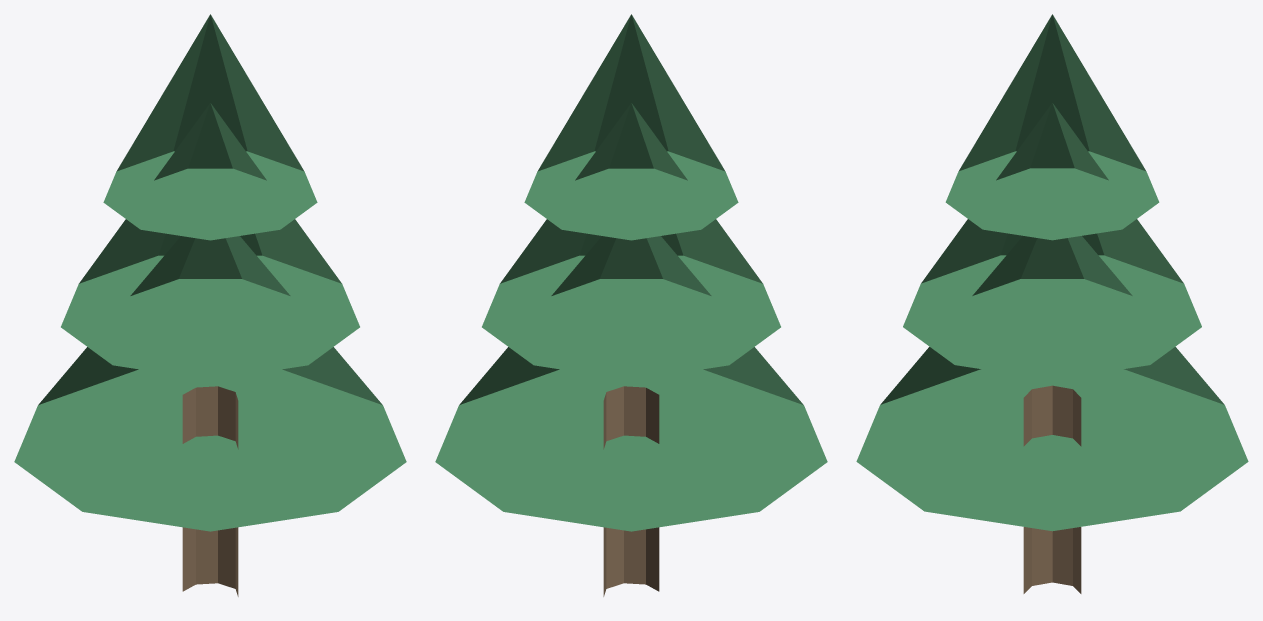
Rendered from pine.glb.
3 renders of one model, left to right at view 1: azimuth 30°, elevation 25°; view 2: azimuth 150°, elevation 25°; view 3: azimuth 270°, elevation 25°, orthographic.
Visible parts, largest first — view 1: pine; view 2: pine; view 3: pine.
Boxes of the visible parts, x1,y1,x2,y2 form: pine: [14, 14, 406, 596]; pine: [435, 14, 827, 596]; pine: [856, 14, 1248, 593].
Bounding box in the file's own units: 1.07 × 1.77 × 1.08.
